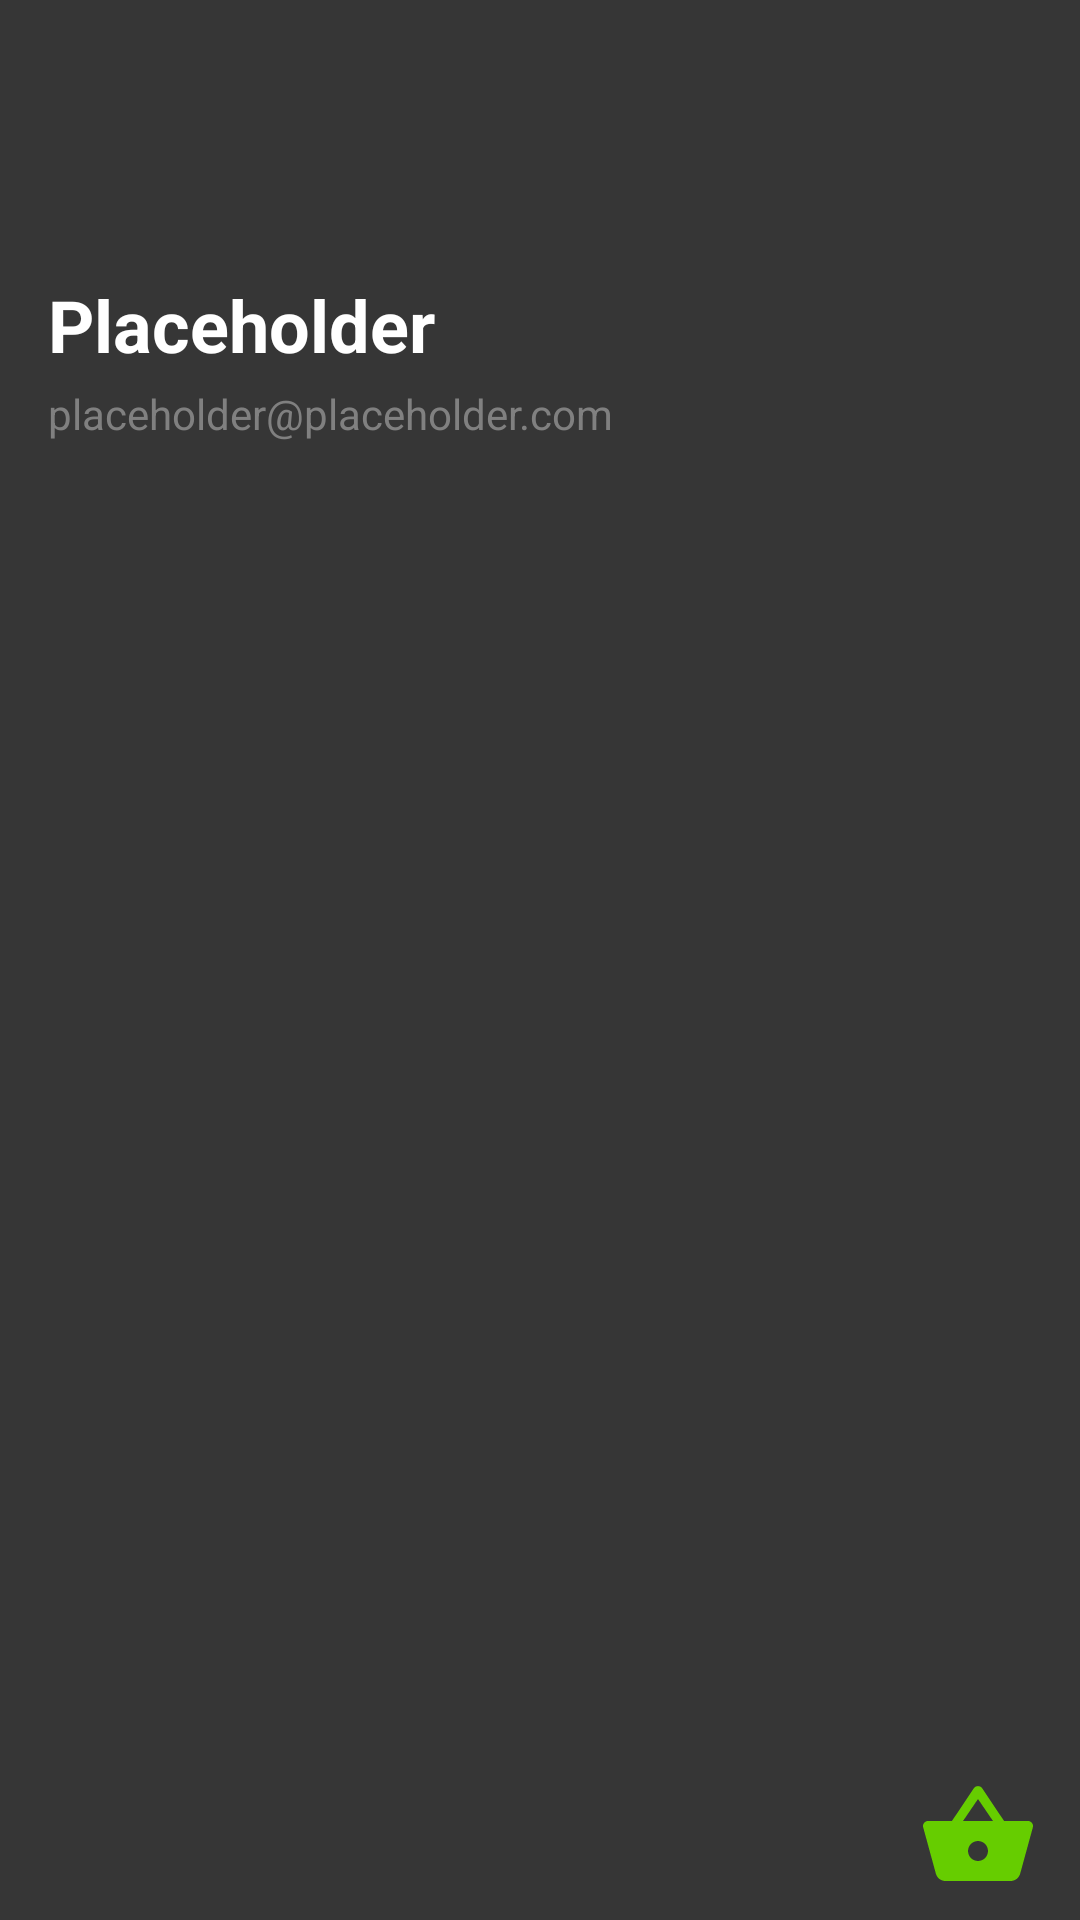

Icon bounding boxes for this 1080 × 1920 phone screenshot, format detection(x1, y1, x2, y2):
shopping basket: detection(923, 1786, 1033, 1881)
